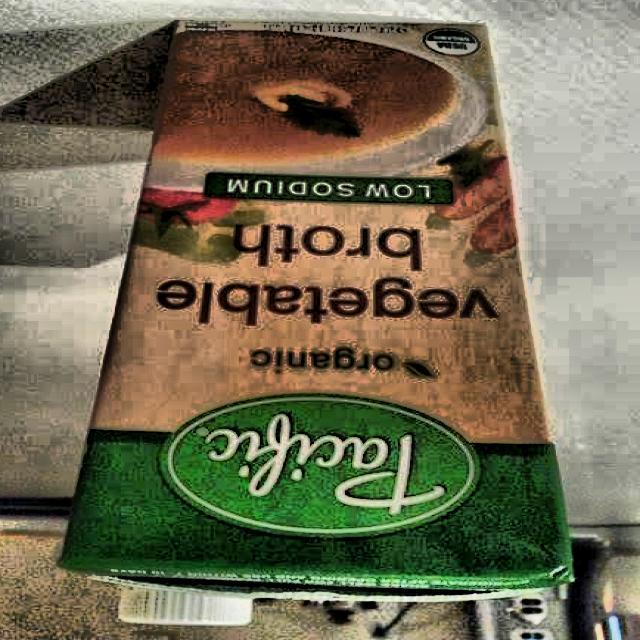cardboard: (58, 19, 576, 604)
